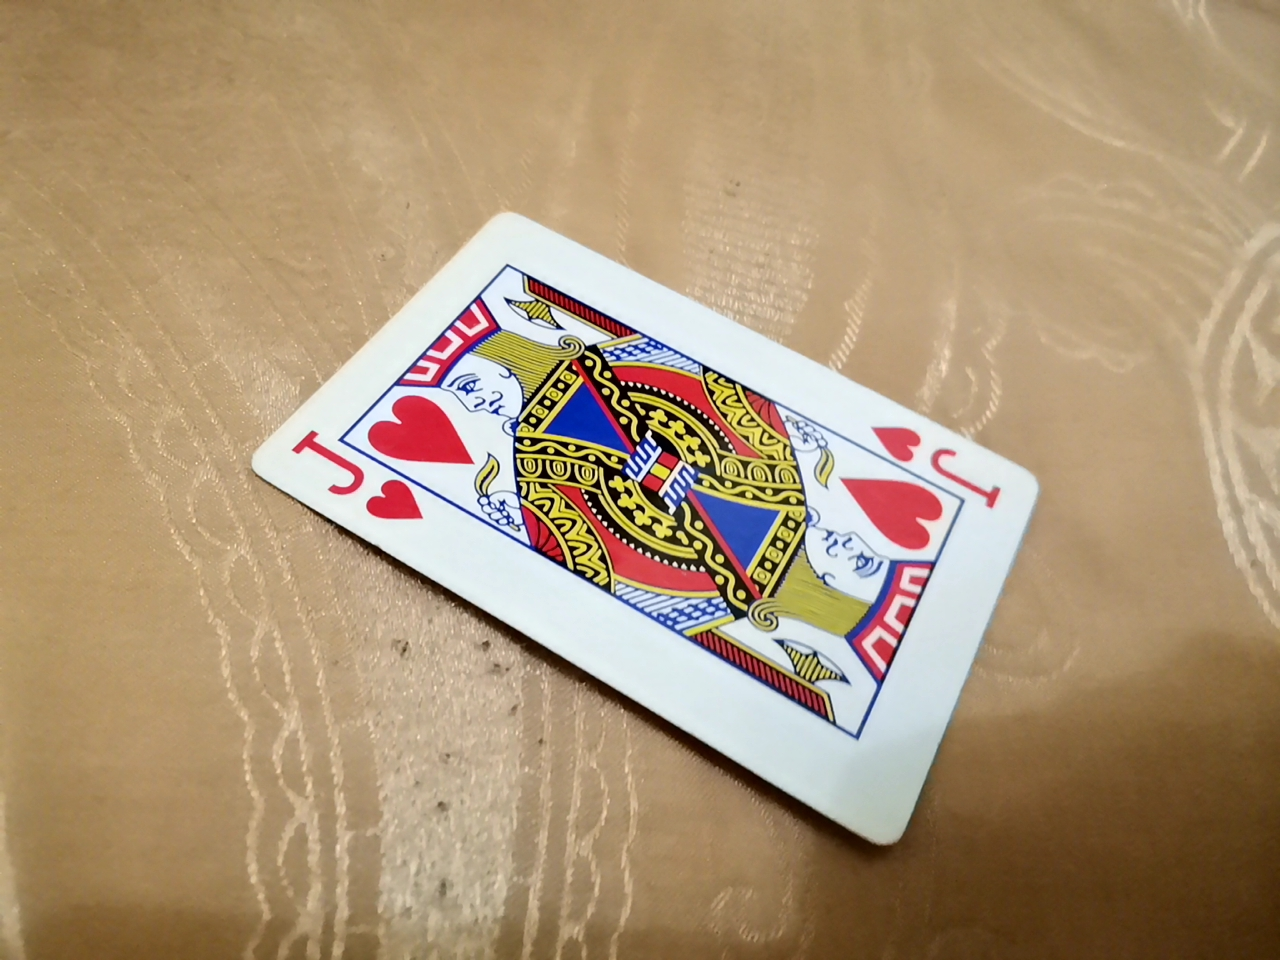hx j: (209, 176, 1053, 830)
